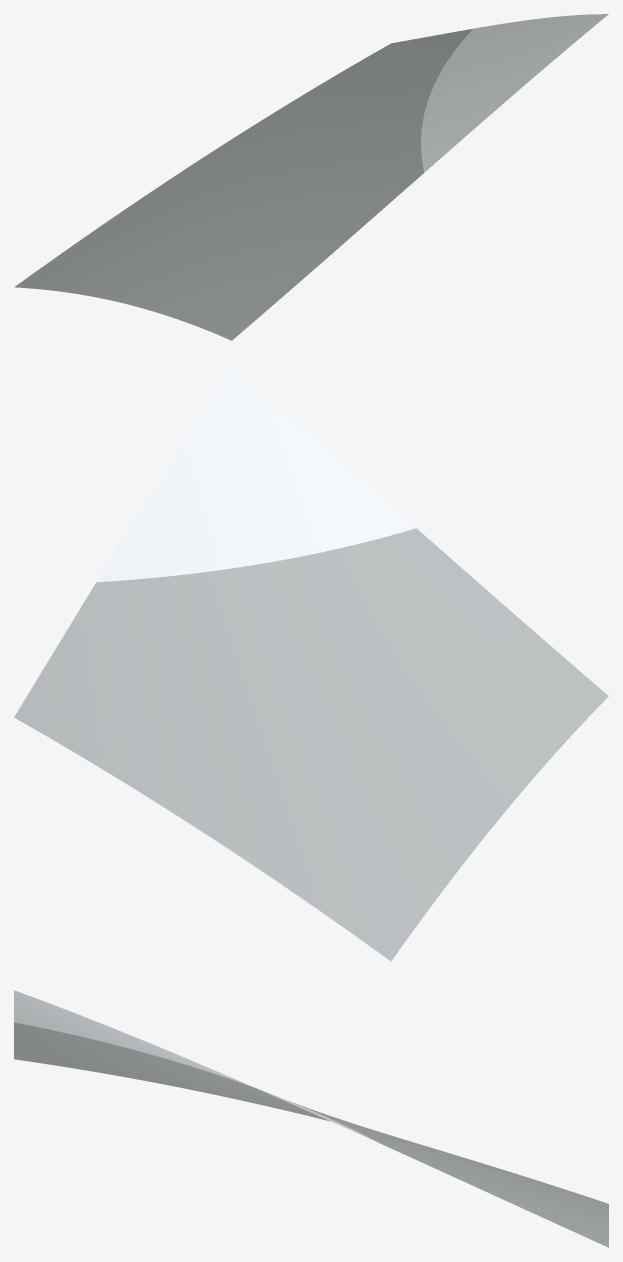
Rendered from alpine-6-5.glb.
The picture shows the model from 3 angles, top to bottom: view 1: azimuth 30°, elevation 25°; view 2: azimuth 150°, elevation 25°; view 3: azimuth 270°, elevation 25°; orthographic projection. The views are drawn at different scales.
Visible parts, largest first — view 1: alpine-6-5; view 2: alpine-6-5; view 3: alpine-6-5.
Boxes of the visible parts, bbox=[...] form: alpine-6-5: bbox=[14, 14, 608, 340]; alpine-6-5: bbox=[14, 369, 608, 961]; alpine-6-5: bbox=[14, 990, 608, 1247].
Bounding box in the file's own units: 256 × 221 × 256.
Materials: 2 (2 with a texture image).
